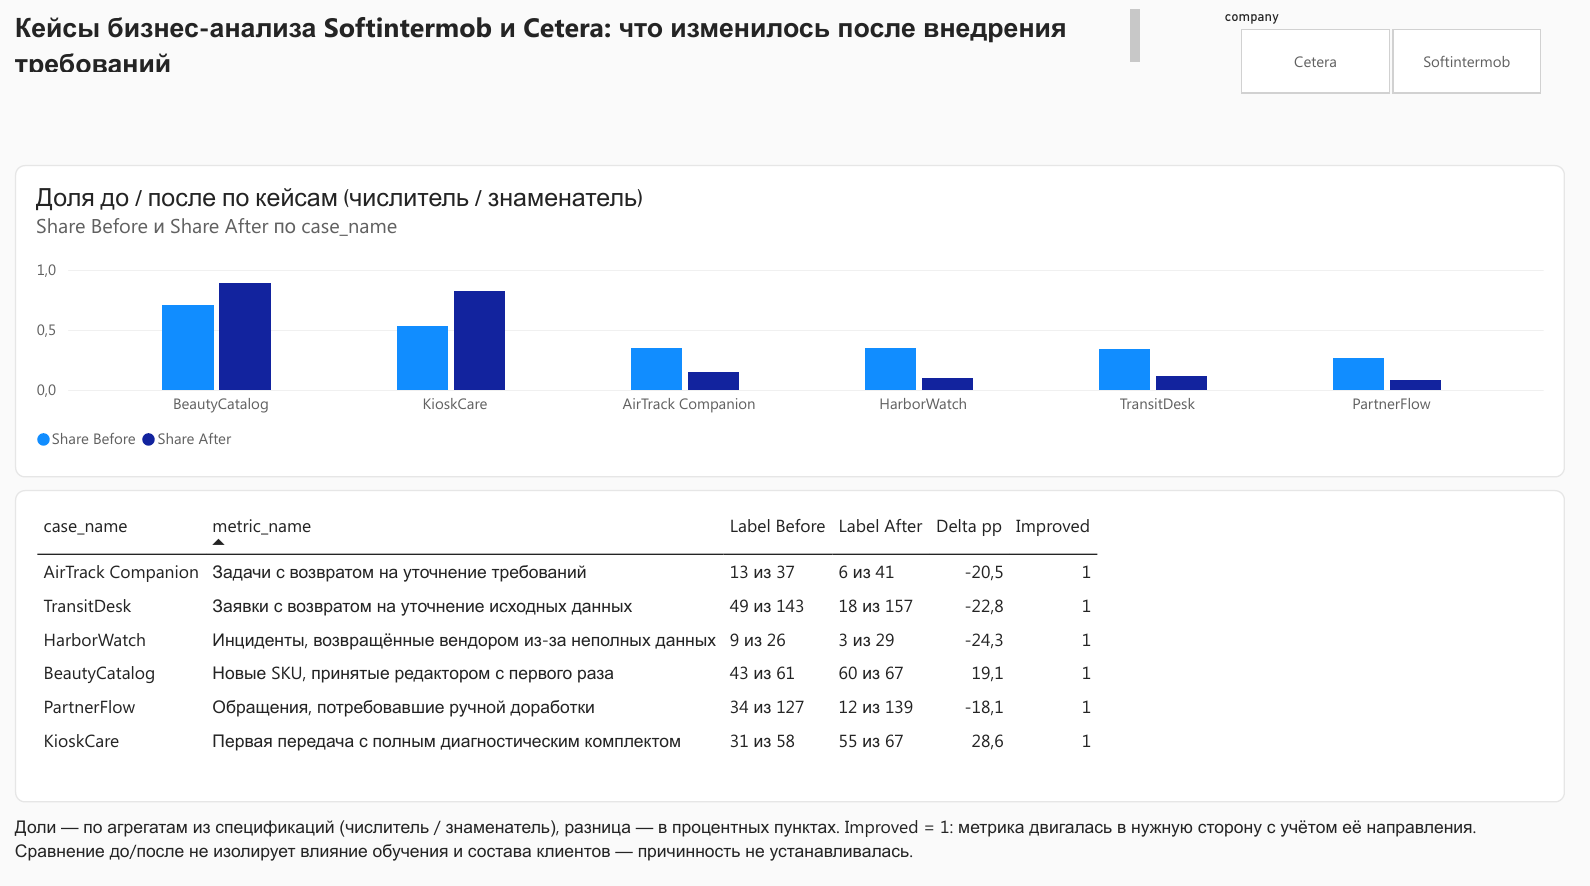

Layout of this report page (visuals, bound fields, positions):
{"tool":"powerbi","page":{"name":"Итоги","canvas":[1920,1080],"ordinal":0},"visuals":[{"type":"tableEx","fields":{"Values":["dim_case.case_name","fact_metric.metric_name","fact_metric.Label Before","fact_metric.Label After","fact_metric.Delta pp","fact_metric.Improved"]},"box":[20,400,1240,250],"z":0},{"type":"clusteredColumnChart","title":"Доля до / после по кейсам (числитель / знаменатель)","fields":{"Category":["dim_case.case_name"],"Y":["fact_metric.Share Before","fact_metric.Share After"]},"box":[20,140,1240,250],"z":1},{"type":"textbox","box":[1270,140,650,250],"z":2},{"type":"textbox","box":[20,15,900,50],"z":3},{"type":"slicer","fields":{"Values":["dim_case.company"]},"box":[980,15,280,70],"z":4},{"type":"textbox","box":[20,660,1240,45],"z":5}]}

Visuals, with their boxes in screenshot pixels (x1, y1, x2, y2), scaled from the page's 1920x1080 canvas onto the 1590x886 screenshot:
tableEx - dim_case.case_name x fact_metric.metric_name: l=17, t=328, r=1043, b=533
"Доля до / после по кейсам (числитель / знаменатель)" clusteredColumnChart: l=17, t=115, r=1043, b=320
textbox: l=1052, t=115, r=1589, b=320
textbox: l=17, t=12, r=762, b=53
slicer - dim_case.company: l=812, t=12, r=1043, b=70
textbox: l=17, t=541, r=1043, b=578
